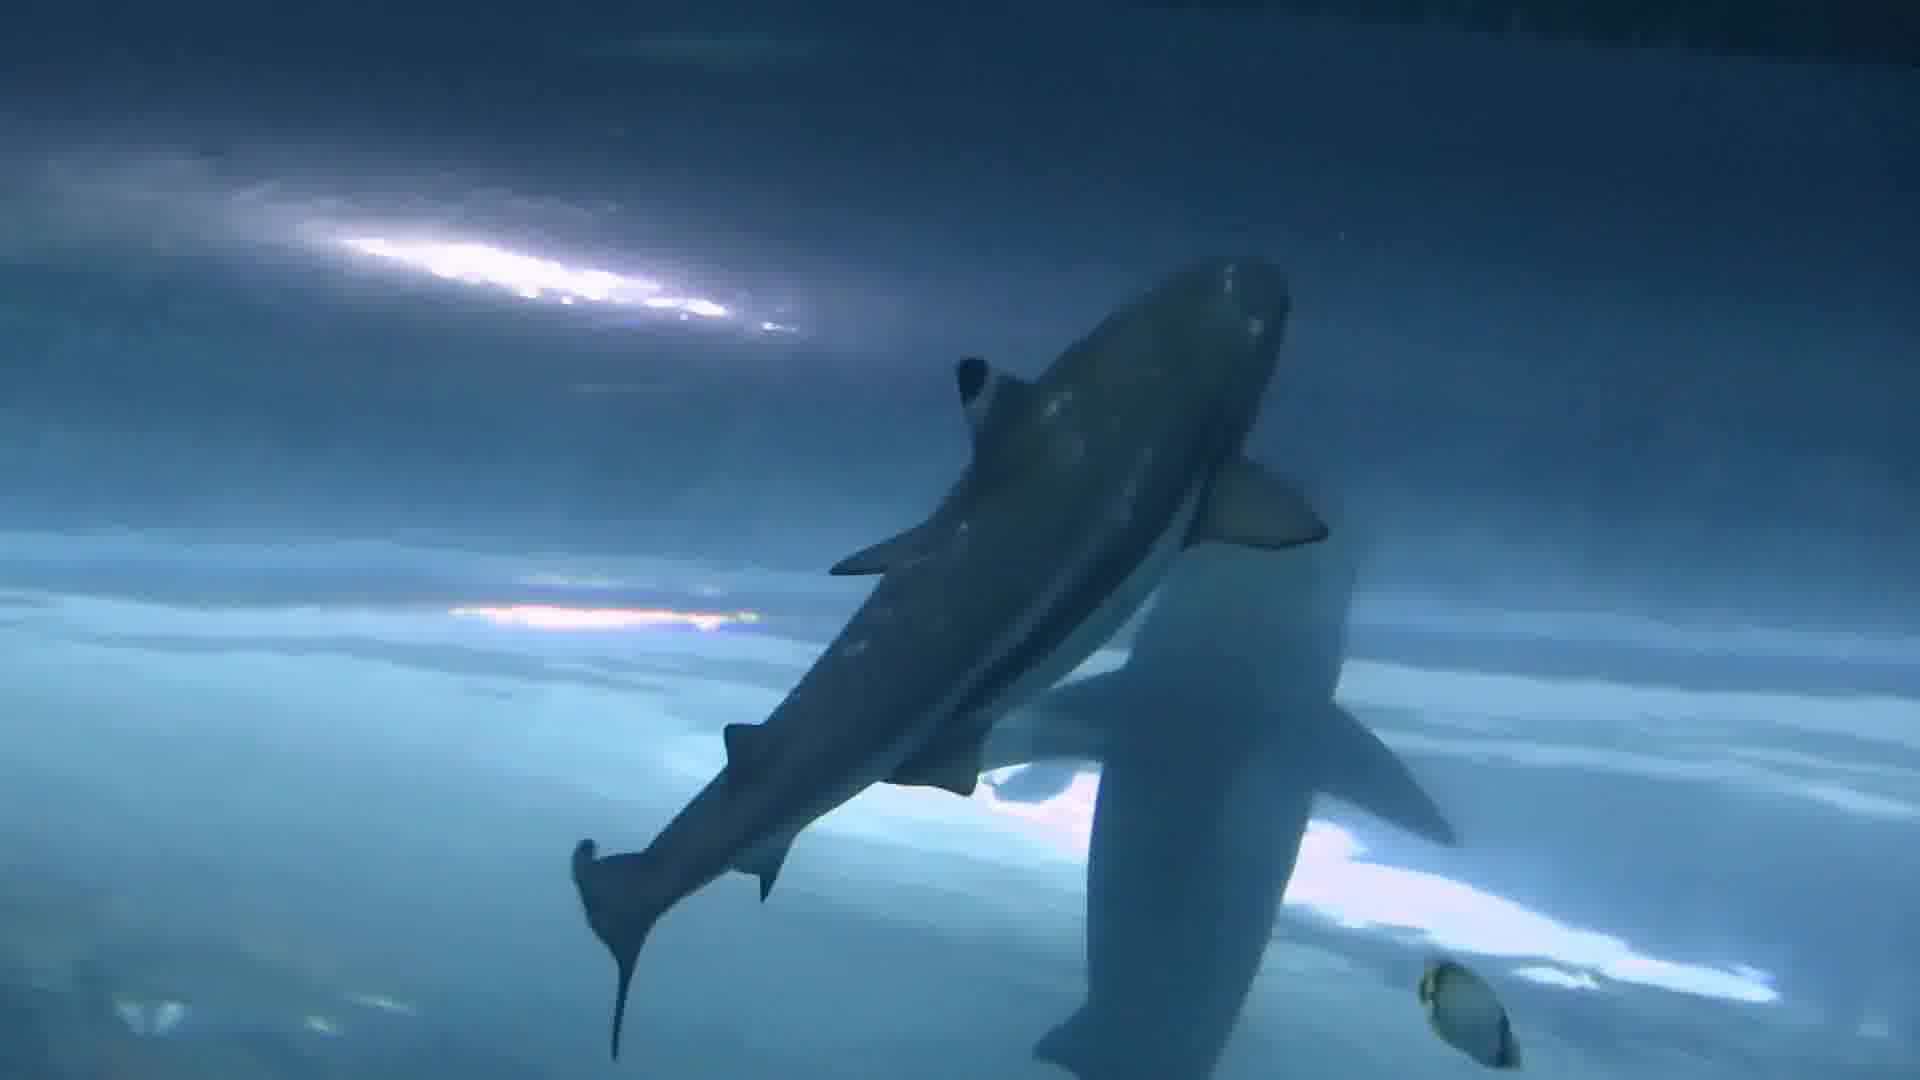Carcharhinus melanopterus: (509, 233, 1406, 1025)
